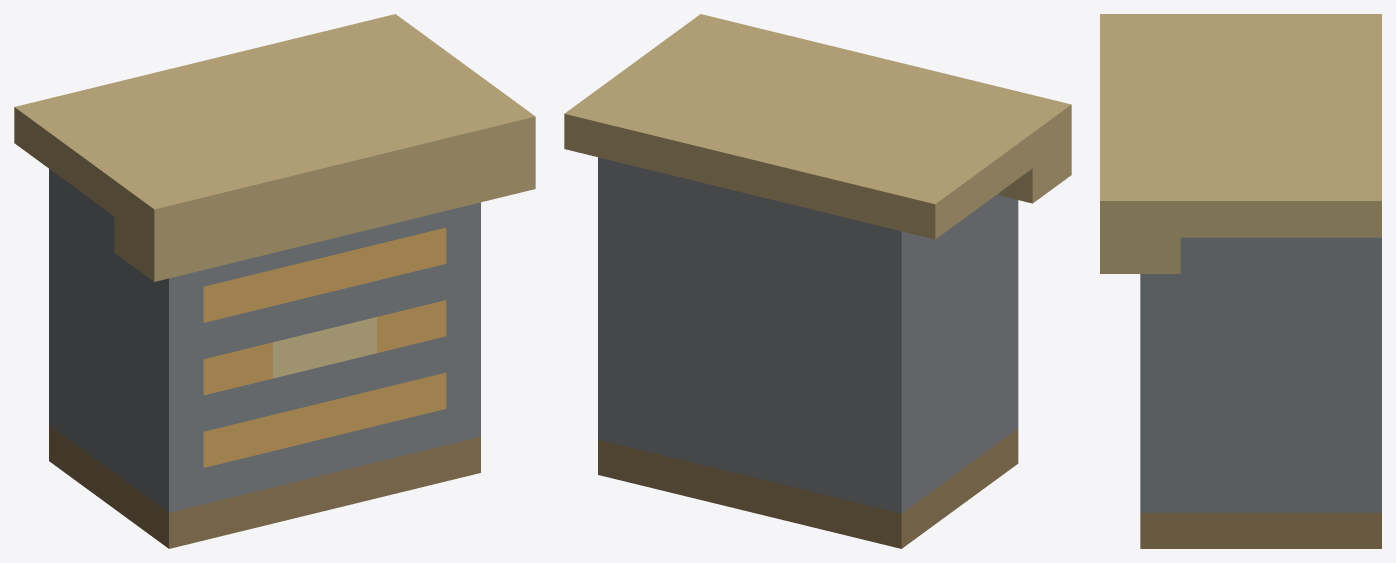
The model's file is vent.glb.
The picture shows the model from 3 angles, left to right: view 1: azimuth 30°, elevation 25°; view 2: azimuth 150°, elevation 25°; view 3: azimuth 270°, elevation 25°; orthographic projection. The views are drawn at different scales.
Bounding box in the file's own units: 11 × 10 × 7.
